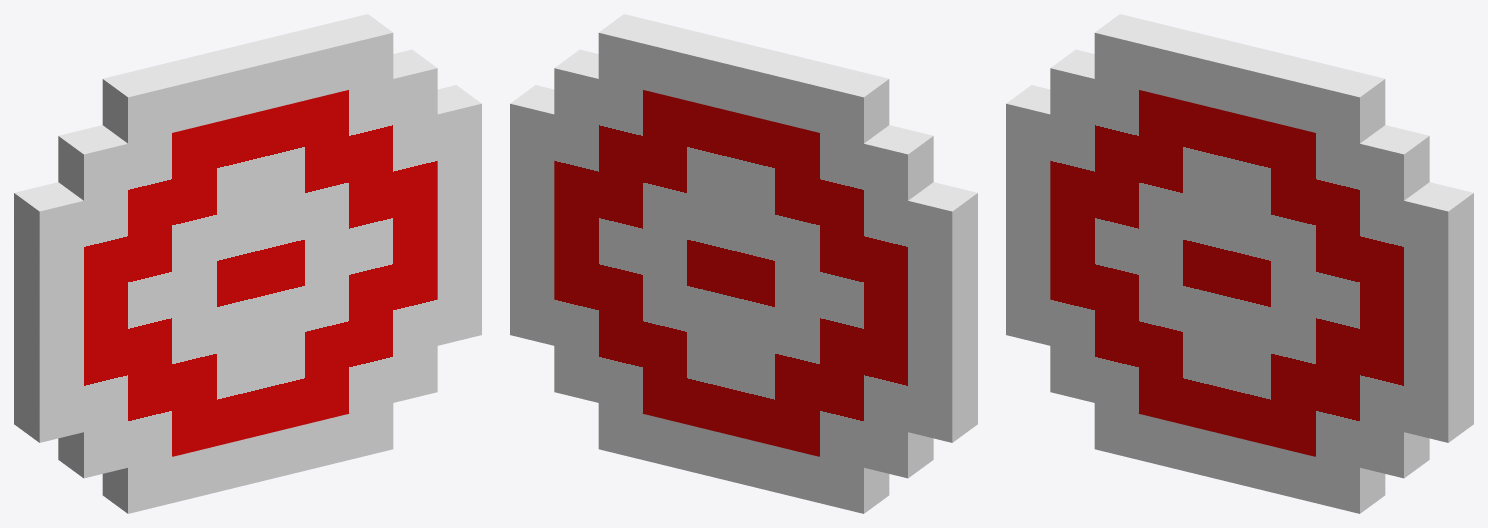
The model's file is NewTarget.dae.
The picture shows the model from 3 angles, left to right: view 1: azimuth 30°, elevation 25°; view 2: azimuth 150°, elevation 25°; view 3: azimuth 330°, elevation 25°; orthographic projection.
Parts seen in each view (by area): view 1: NewTarget; view 2: NewTarget; view 3: NewTarget.
Boxes of the visible parts, x1,y1,x2,y2 form: NewTarget: (14, 14, 481, 513); NewTarget: (510, 14, 977, 513); NewTarget: (1006, 14, 1473, 513).
Size of the model in its own units: 10 by 9 by 1.
Materials: 1 (1 with a texture image).
